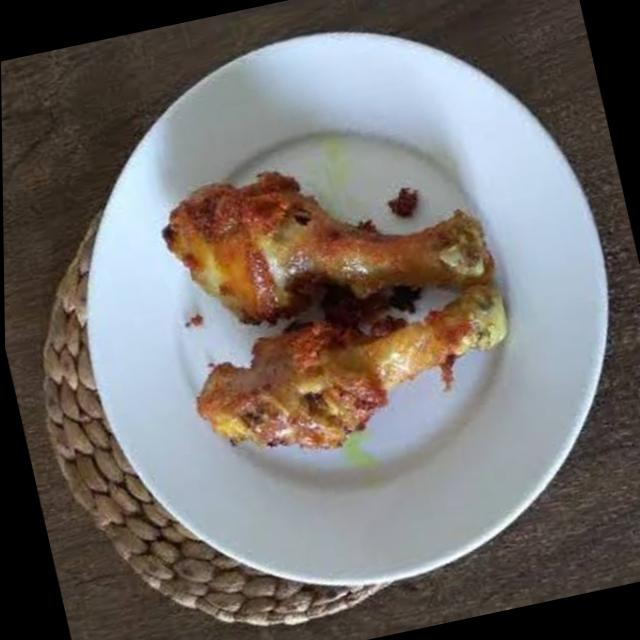CHICKEN FRY: (158, 168, 512, 452)
